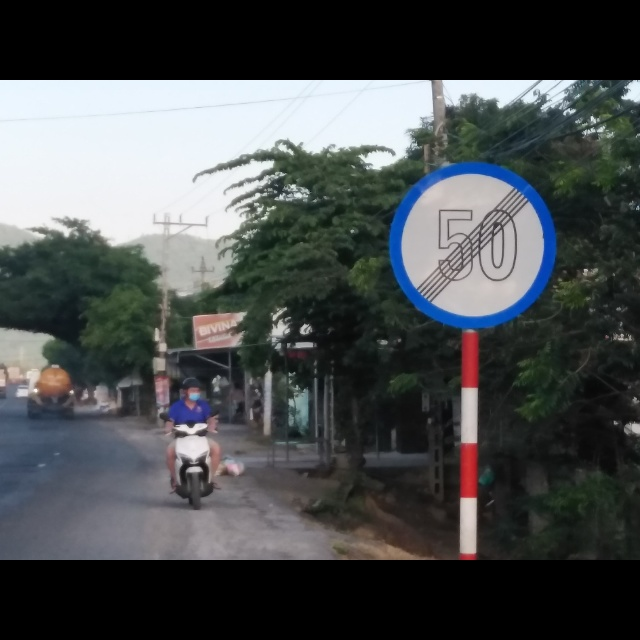Hết hạn chế tốc độ tối đa 50km/h: (387, 159, 559, 334)
